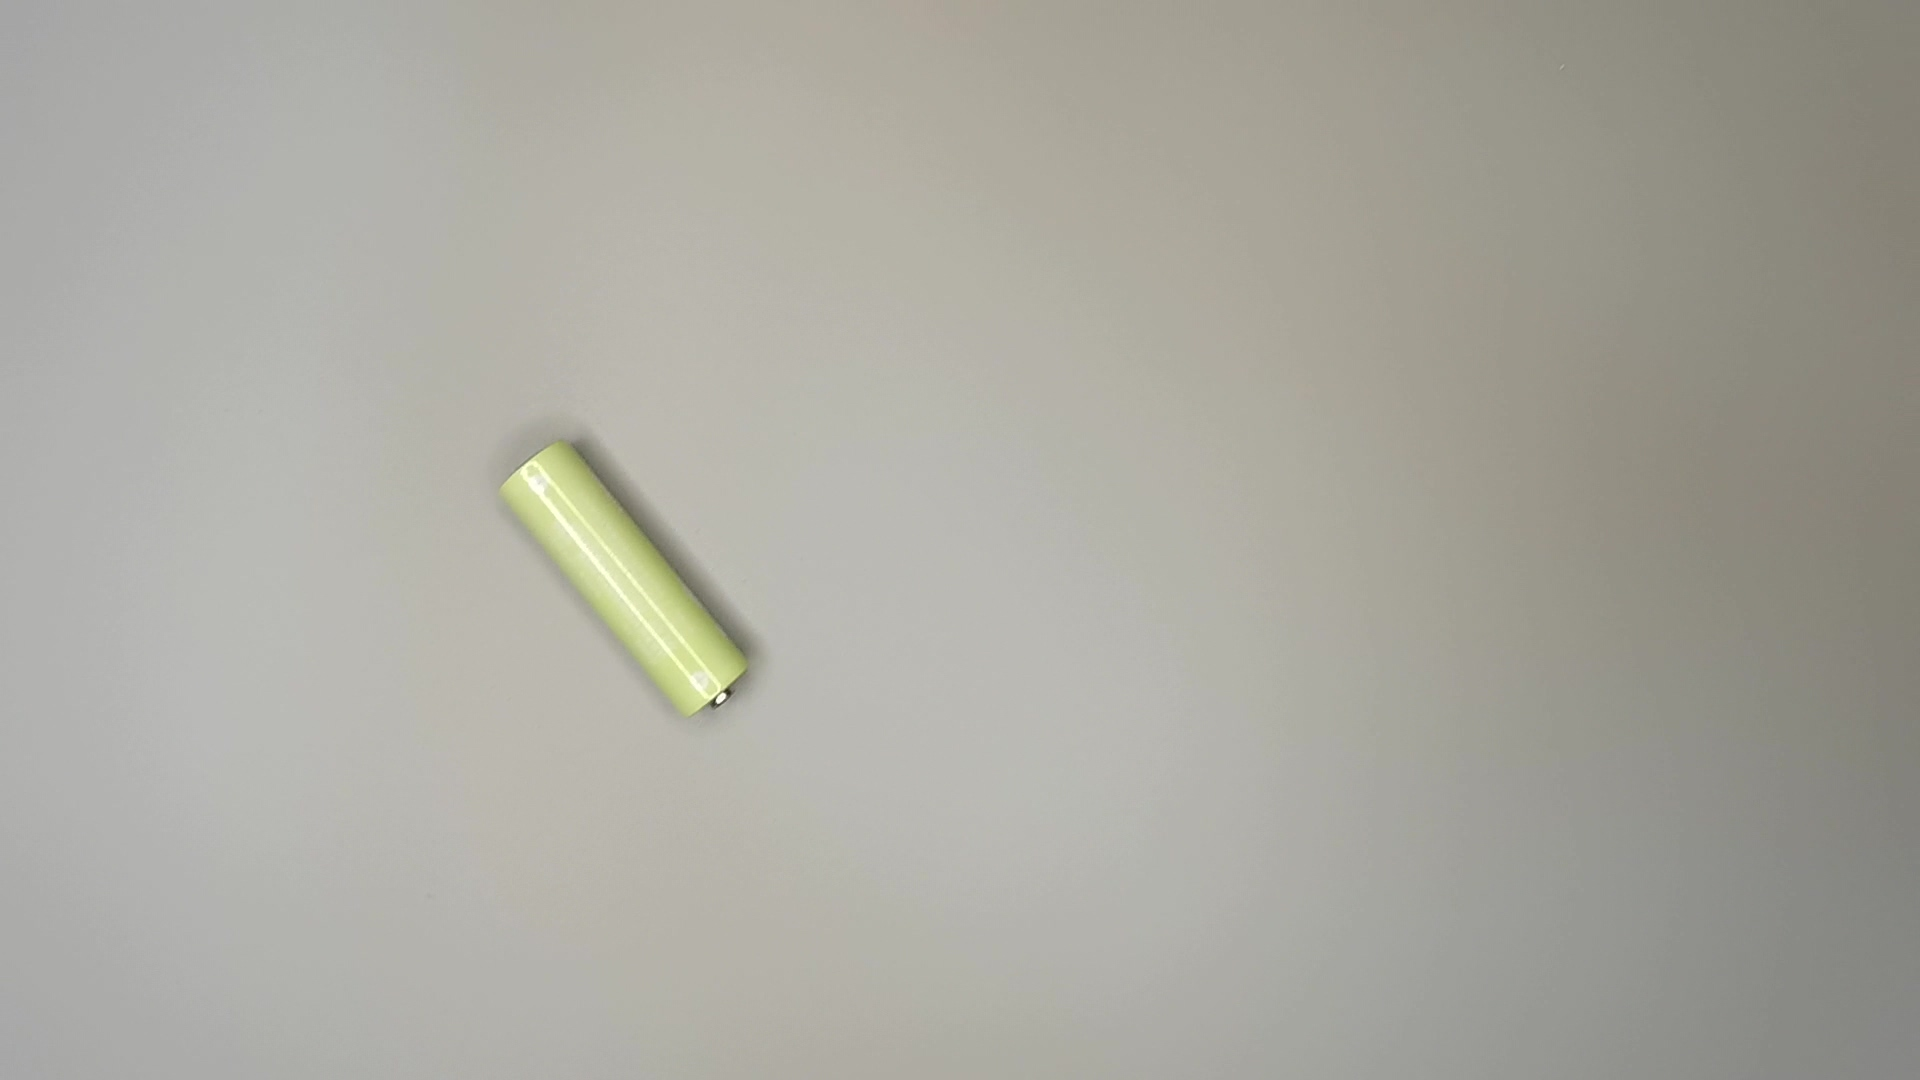battery: (495, 431, 760, 719)
